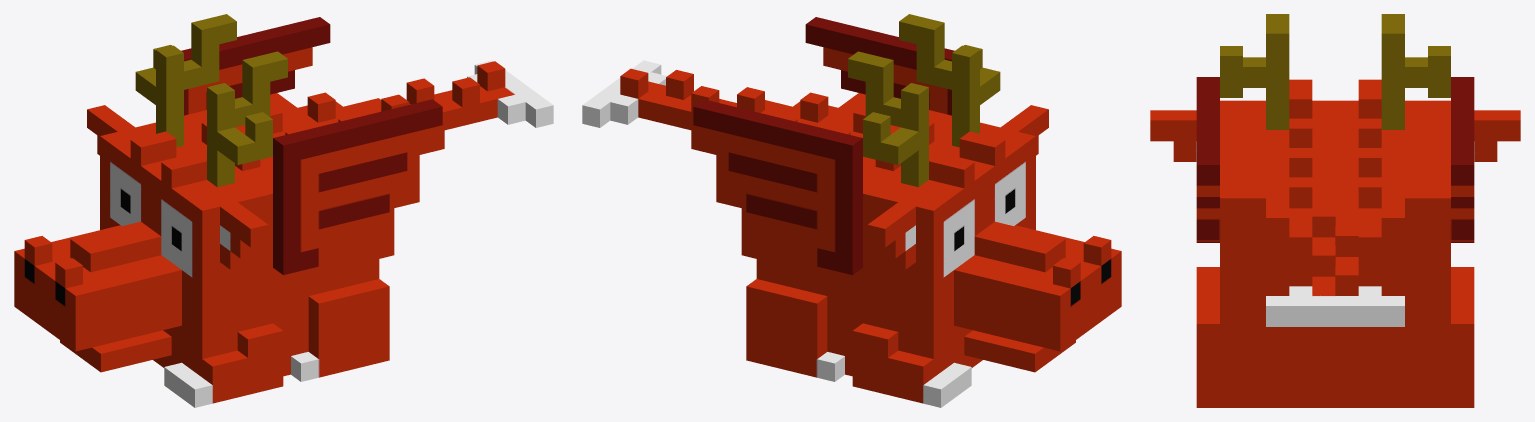
Rendered from chapter6_dragon.fbx.
The picture shows the model from 3 angles, left to right: view 1: azimuth 30°, elevation 25°; view 2: azimuth 150°, elevation 25°; view 3: azimuth 270°, elevation 25°; orthographic projection. The views are drawn at different scales.
Visible parts, largest first — view 1: Box; view 2: Box; view 3: Box.
Boxes of the visible parts, x1,y1,x2,y2 form: Box: (14, 14, 553, 407); Box: (582, 14, 1121, 407); Box: (1150, 14, 1520, 407).
Bounding box in the file's own units: 27 × 16 × 16.
